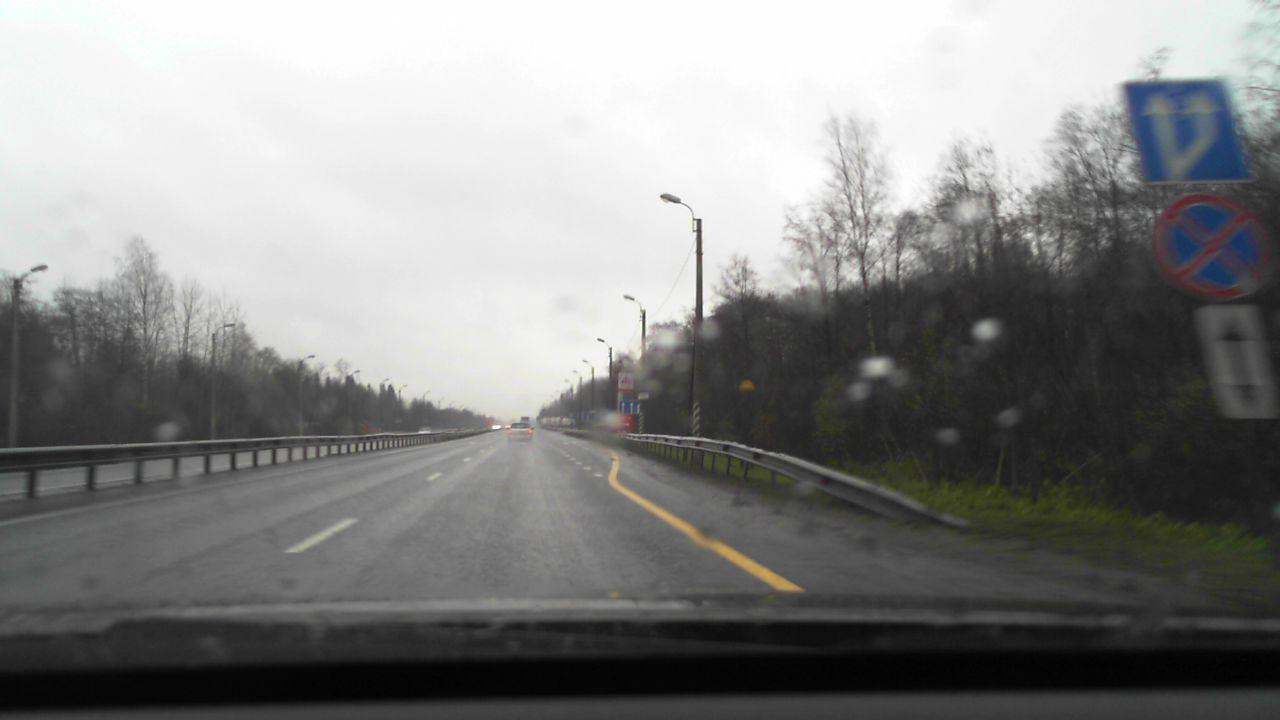3_27: (1147, 194, 1276, 296)
5_15_3: (1124, 77, 1242, 183)
8_2_4: (1195, 302, 1279, 417)
